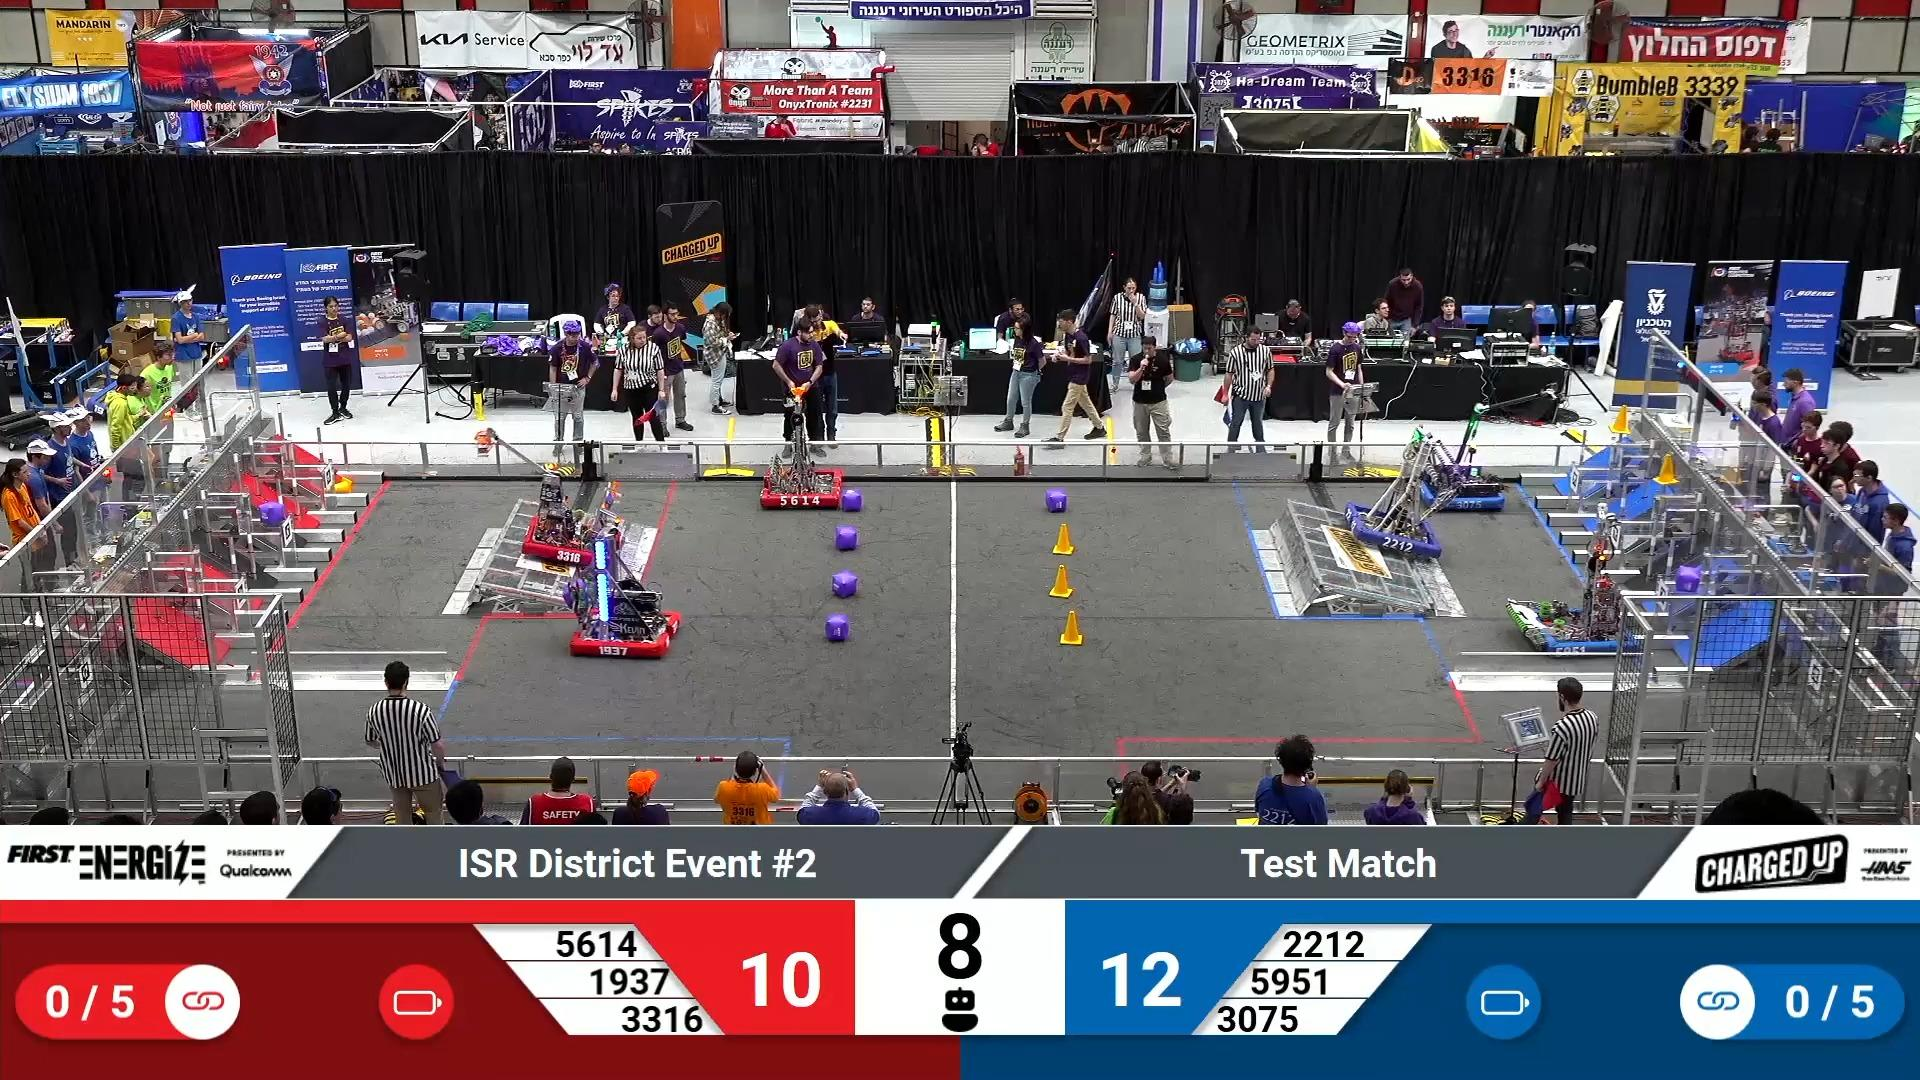robot: (1412, 377, 1567, 513), (1505, 522, 1643, 655), (564, 522, 687, 663), (1342, 426, 1445, 559), (518, 460, 628, 564), (758, 400, 849, 512)
